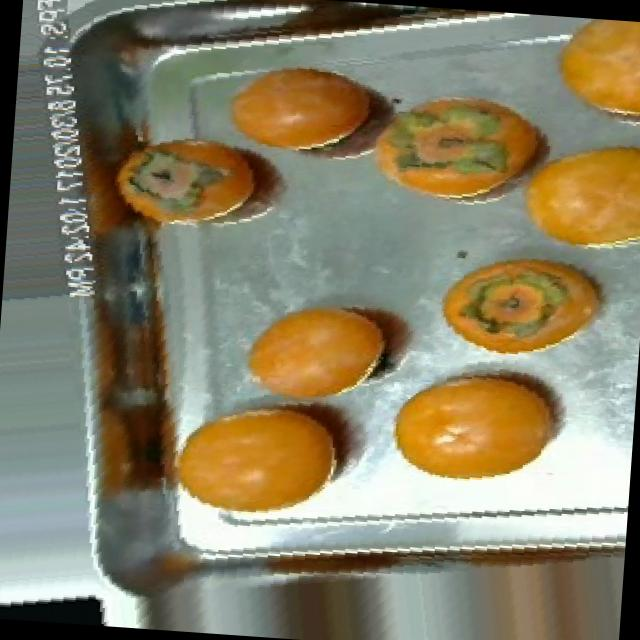Fruit: (370, 348, 583, 500), (154, 377, 364, 531), (205, 30, 409, 169), (419, 234, 623, 372), (229, 280, 412, 424), (112, 114, 316, 241), (498, 118, 640, 266), (538, 15, 640, 131), (0, 569, 127, 627)
